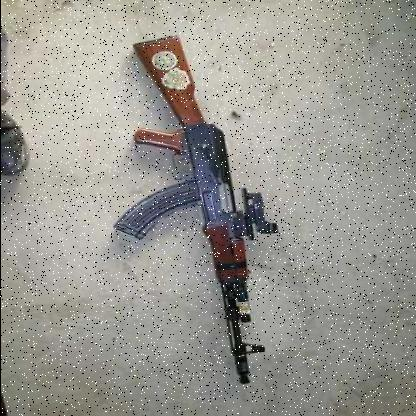rifle: (104, 21, 311, 397)
